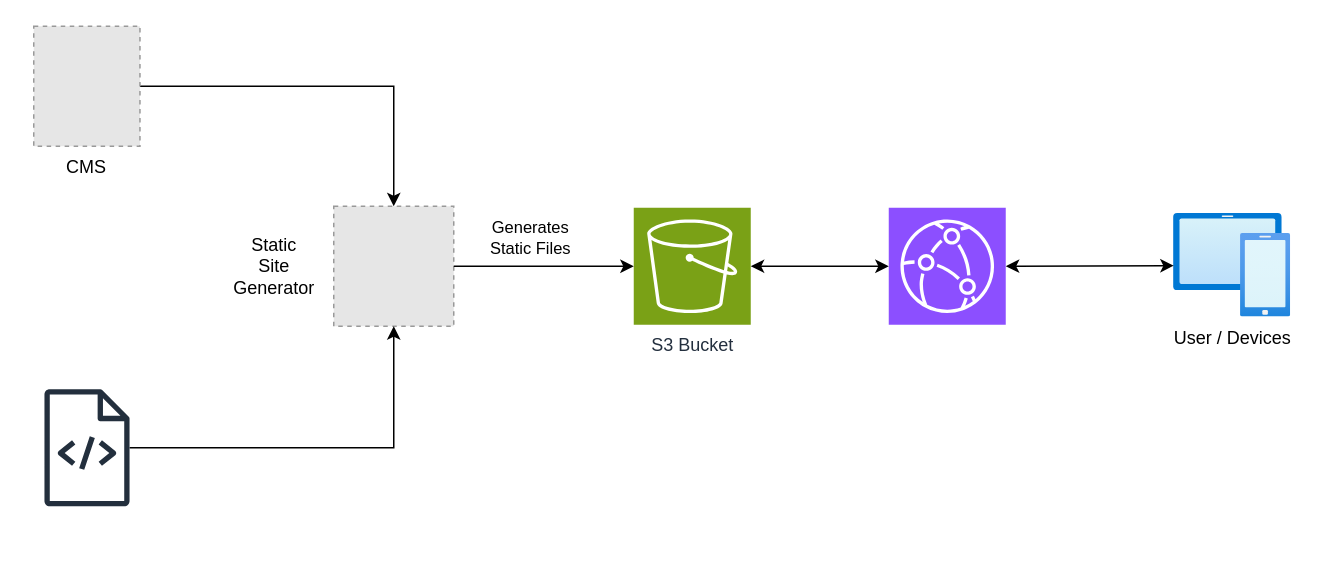
This 1317x564 diagram has some shape labels left out. Grey dashed boxes stand in for pictures. The box of each missing label's shape, as (x1, y1, x2, y2) in pixels:
Cloudfront CDN: (887, 206, 1006, 325)
Code Template: (44, 388, 129, 506)
